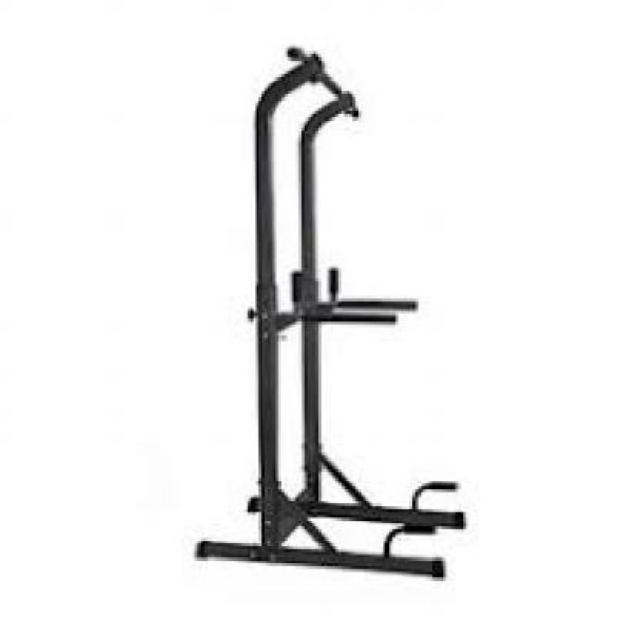chinning dipping: (196, 45, 470, 580)
